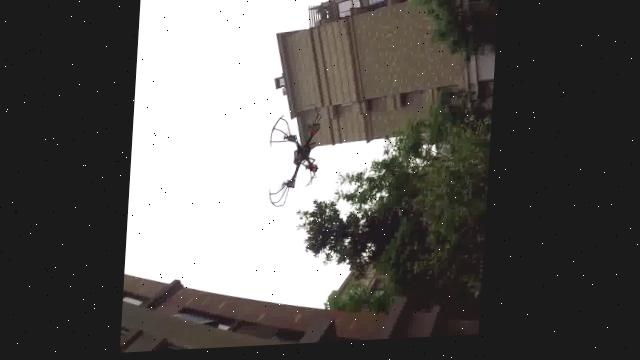drone: (260, 101, 332, 226)
